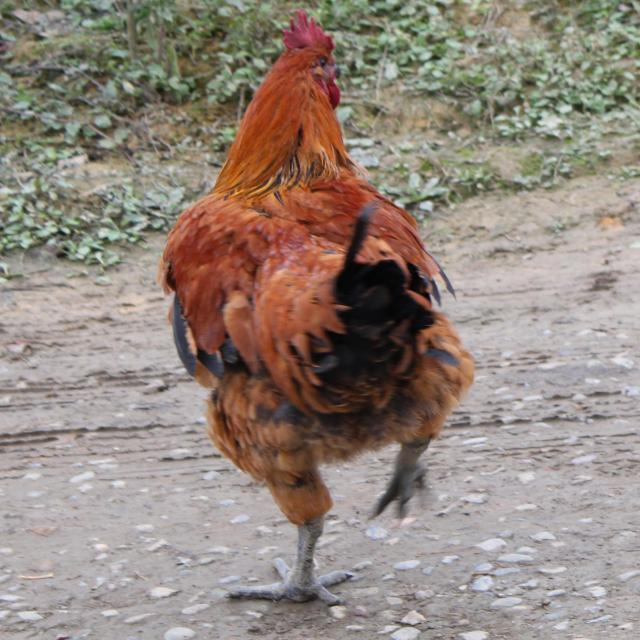cook: (162, 12, 473, 601)
